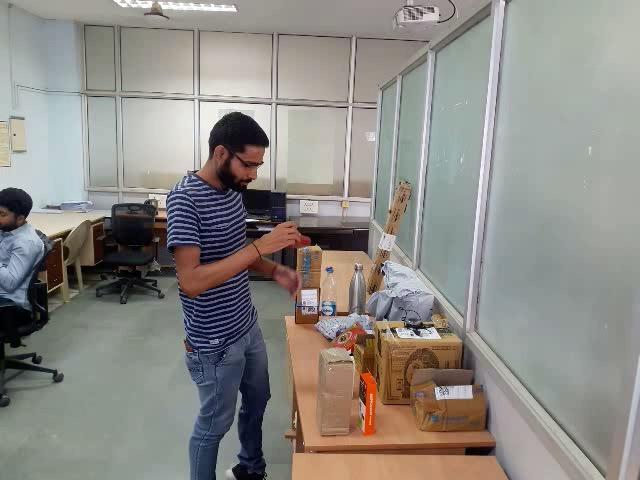Normal: (66, 71, 640, 480)
